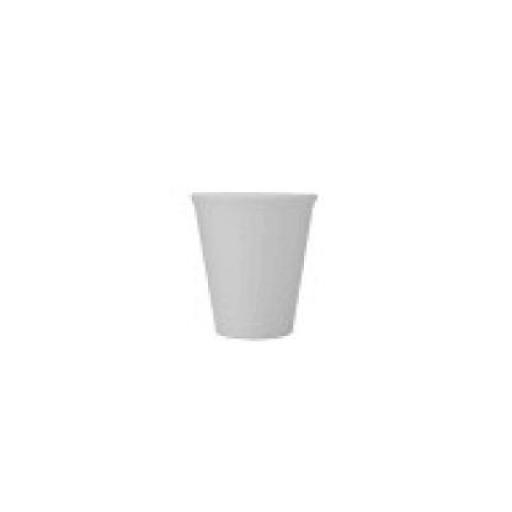paper: (190, 186, 315, 336)
